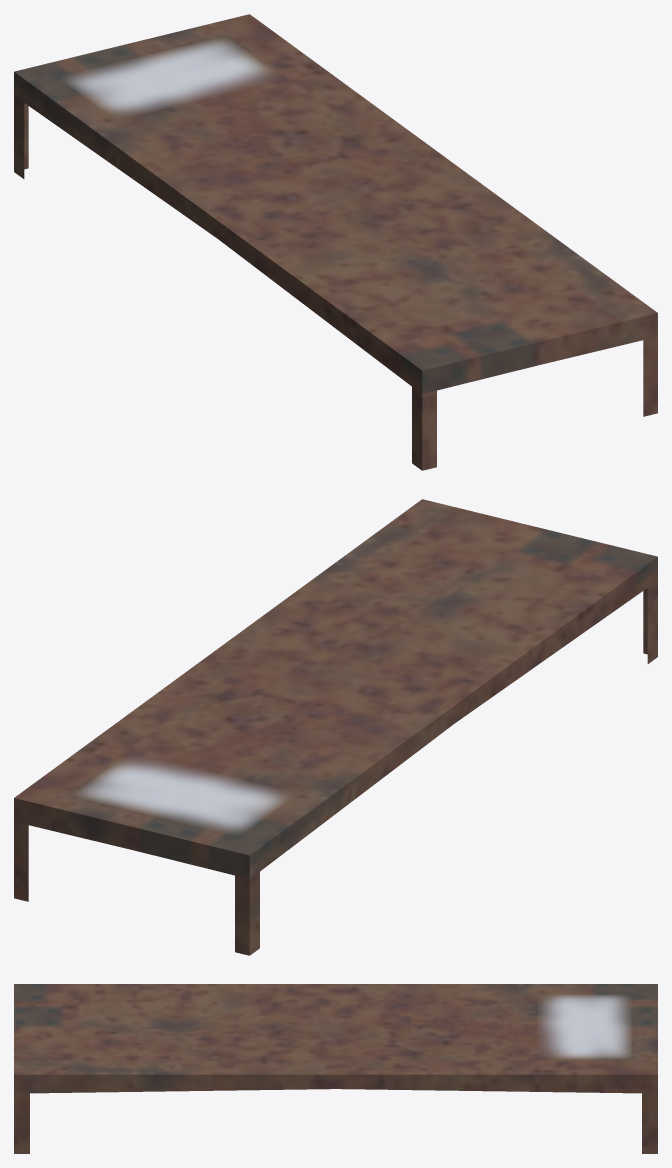
The model's file is bunk.fbx.
3 views of the same model, one above another, from view 1: azimuth 30°, elevation 25°; view 2: azimuth 150°, elevation 25°; view 3: azimuth 270°, elevation 25° (orthographic). The views are drawn at different scales.
Parts seen in each view (by area): view 1: Cube; view 2: Cube; view 3: Cube.
Boxes of the visible parts, x1=… form: Cube: x1=14, y1=14, x2=657, y2=470; Cube: x1=14, y1=499, x2=657, y2=955; Cube: x1=14, y1=984, x2=657, y2=1153.
Bounding box in the file's own units: 600 × 200 × 81.36.
Materials: 1 (1 with a texture image).
